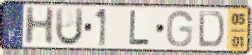1: (93, 8, 108, 47)
D: (197, 9, 226, 49)
G: (165, 10, 194, 49)
H: (23, 6, 57, 47)
L: (128, 9, 152, 47)
U: (54, 6, 85, 48)
